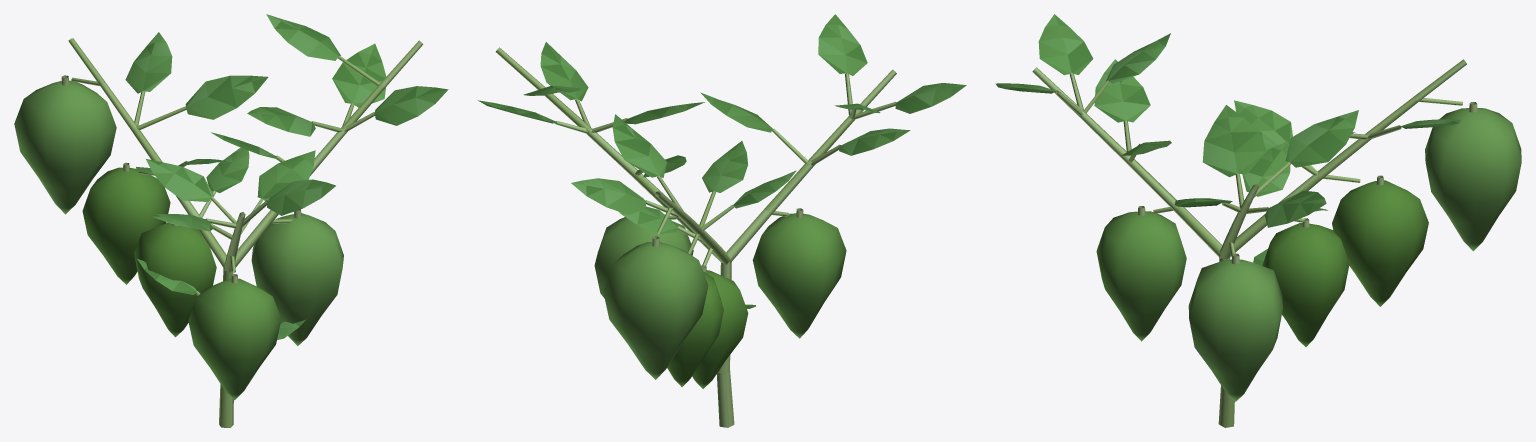
File: poivron_fruits.glb
3 renders of one model, left to right at view 1: azimuth 30°, elevation 25°; view 2: azimuth 150°, elevation 25°; view 3: azimuth 270°, elevation 25°, orthographic. The views are drawn at different scales.
Visible parts, largest first — view 1: Poivron_Fruits, Poivron_Feuilles, Poivron_Tiges; view 2: Poivron_Fruits, Poivron_Feuilles, Poivron_Tiges; view 3: Poivron_Fruits, Poivron_Feuilles, Poivron_Tiges.
Part boxes in pixels (x1,y1,x2,y2): Poivron_Fruits: (14, 80, 343, 400); Poivron_Feuilles: (125, 14, 448, 339); Poivron_Tiges: (68, 38, 423, 427); Poivron_Fruits: (594, 213, 846, 388); Poivron_Feuilles: (478, 14, 966, 310); Poivron_Tiges: (495, 47, 896, 427); Poivron_Fruits: (1096, 108, 1521, 401); Poivron_Feuilles: (995, 14, 1460, 265); Poivron_Tiges: (1032, 59, 1466, 427).
Size of the model in its own units: 0.5391 by 0.4868 by 0.6314.
